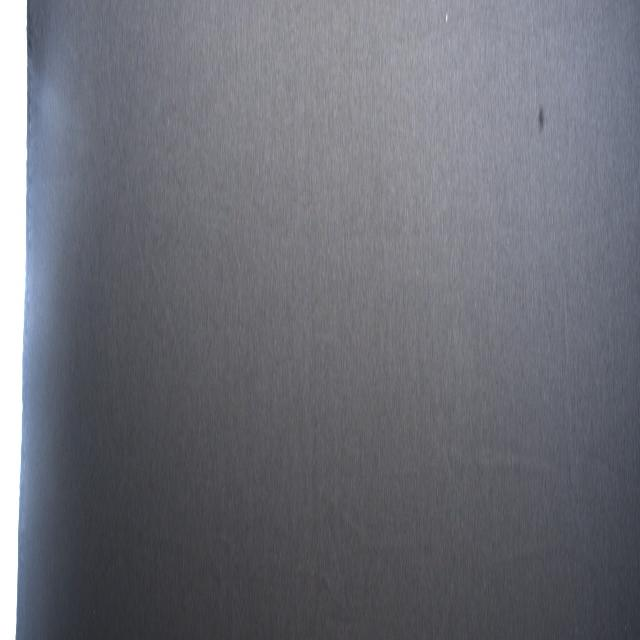crease: (297, 474, 435, 630), (91, 10, 148, 293), (442, 432, 557, 505), (150, 250, 188, 381)
whiteDefect: (445, 9, 449, 24)
